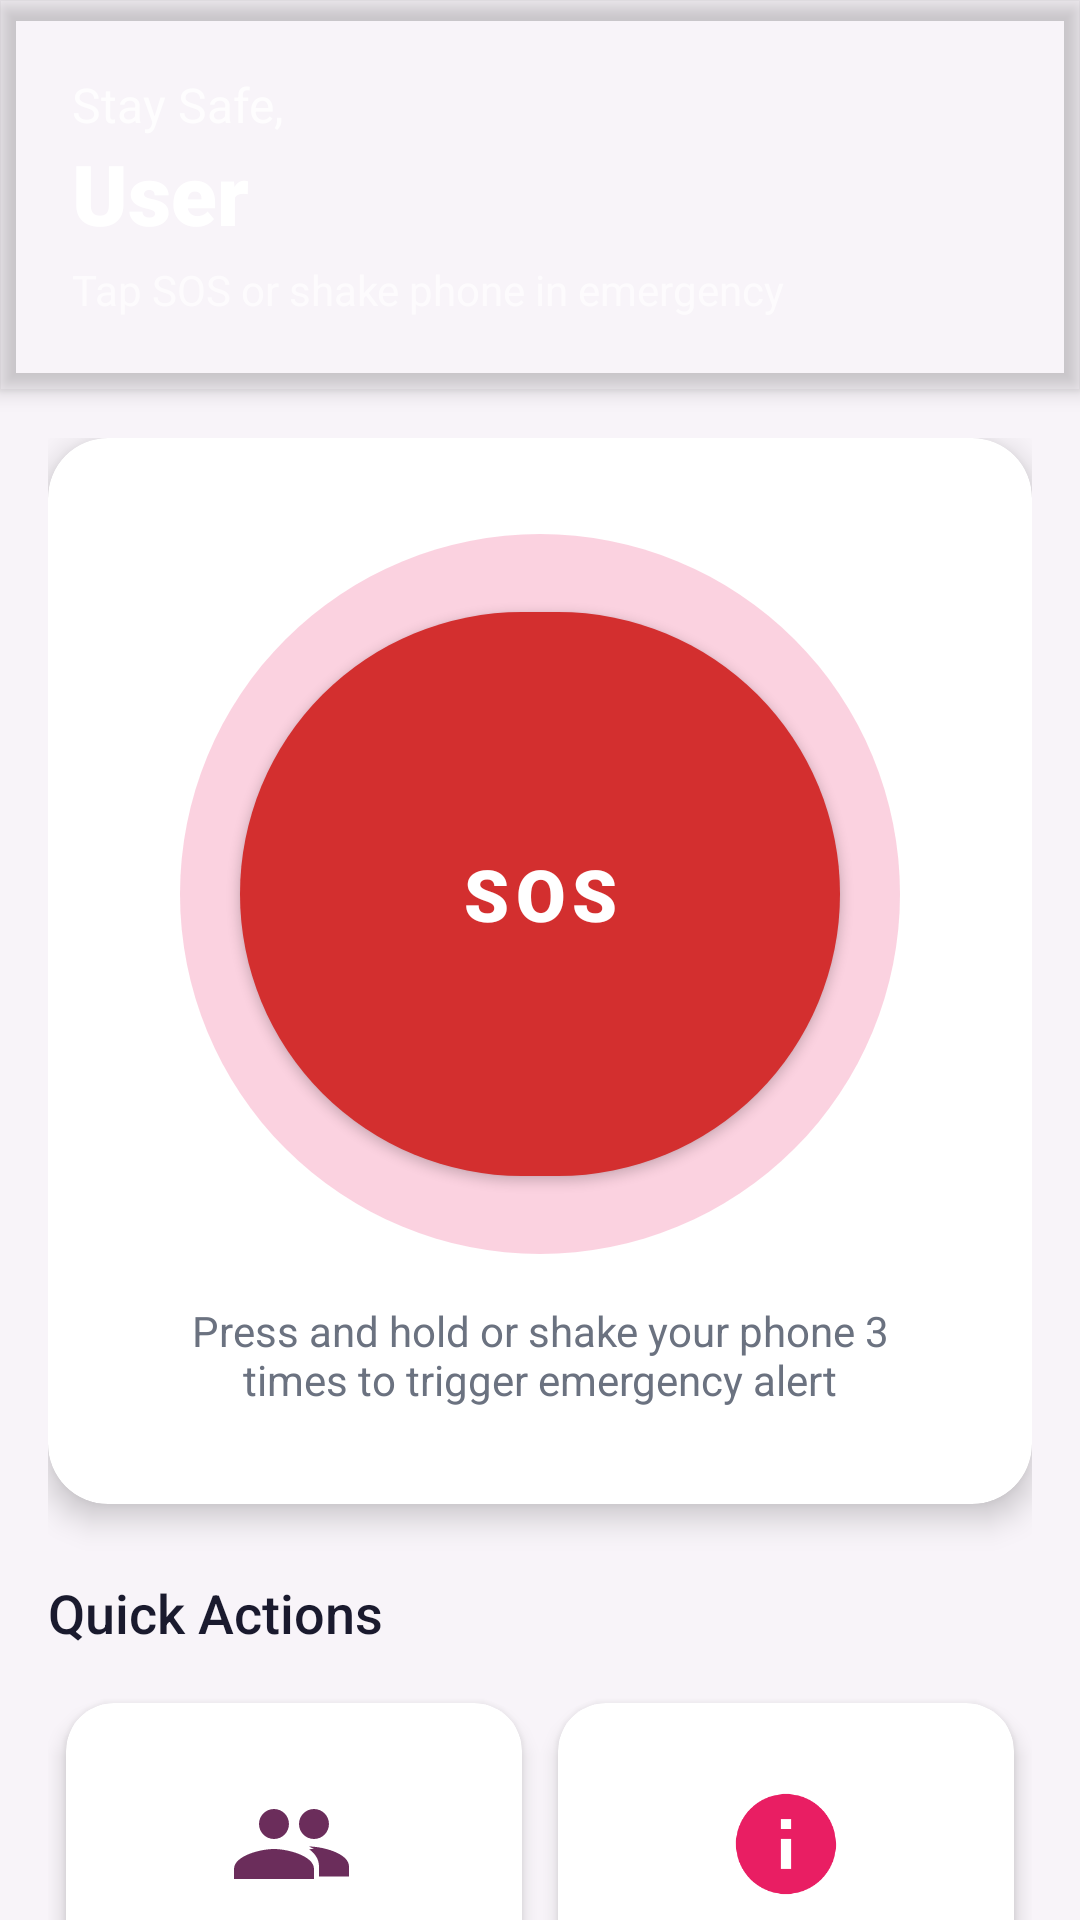

Where to tap for icons on this 1080x1920 app screen, as (x=x, y=y):
contacts: (x=291, y=1844)
